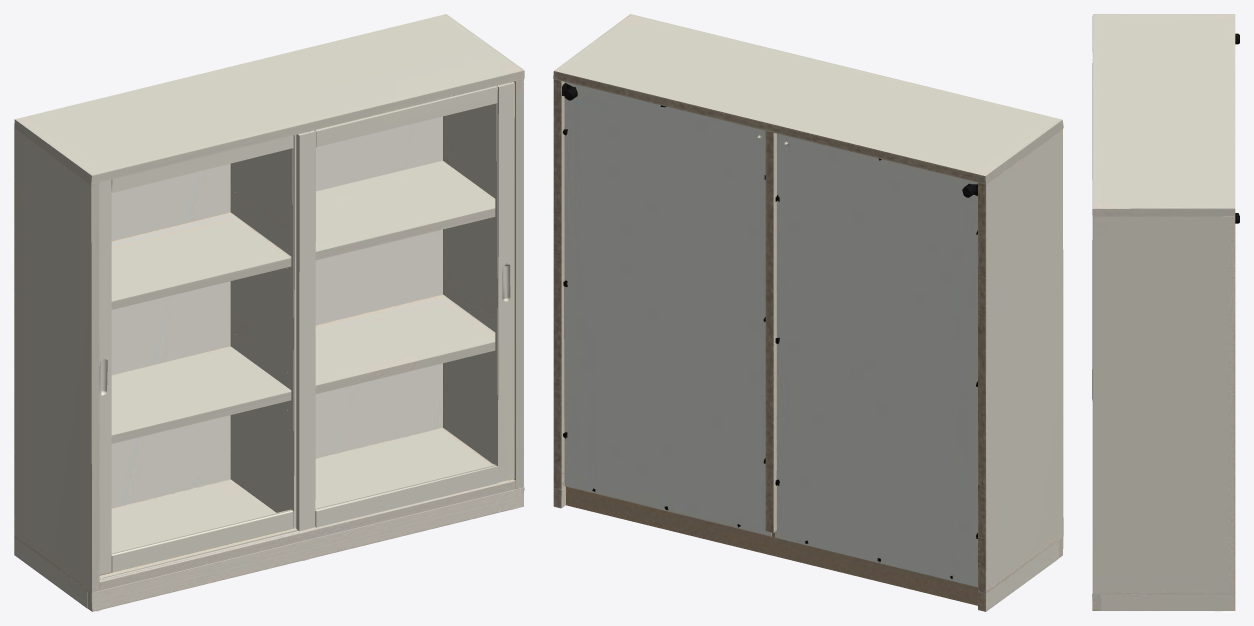
File: 26 - TONSTAD Cabinet with sliding glass doors - off-white 120x37x116 cm.glb
3 renders of one model, left to right at view 1: azimuth 30°, elevation 25°; view 2: azimuth 150°, elevation 25°; view 3: azimuth 270°, elevation 25°, orthographic. The views are drawn at different scales.
Parts seen in each view (by area): view 1: ASY_ART_20488896_S01_NV01, ASY_LPT02_20488896_S01_NV01, ASY_LPT01_20488896_S01_NV01; view 2: ASY_ART_20488896_S01_NV01; view 3: ASY_ART_20488896_S01_NV01.
Boxes of the visible parts, x1=… form: ASY_ART_20488896_S01_NV01: x1=14, y1=14, x2=524, y2=611; ASY_LPT02_20488896_S01_NV01: x1=296, y1=82, x2=514, y2=531; ASY_LPT01_20488896_S01_NV01: x1=99, y1=135, x2=296, y2=574; ASY_ART_20488896_S01_NV01: x1=553, y1=14, x2=1063, y2=611; ASY_ART_20488896_S01_NV01: x1=1092, y1=14, x2=1239, y2=611.
Bounding box in the file's own units: 1.2 × 1.16 × 0.3828.
5 materials, 5 textured.
